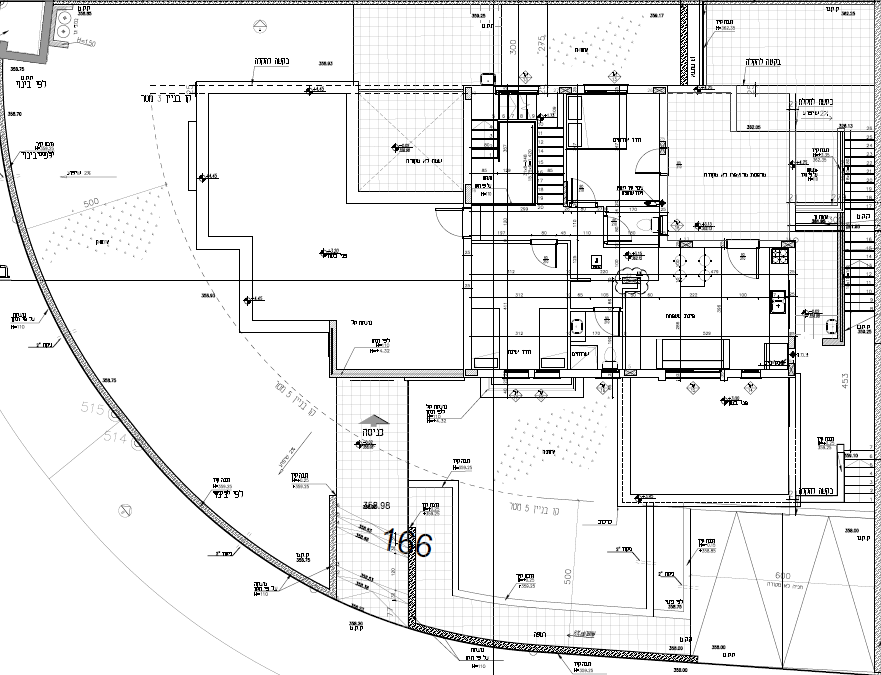door: (425, 204, 460, 242), (632, 142, 658, 177), (630, 140, 656, 175)
wall: (333, 368, 459, 377)
